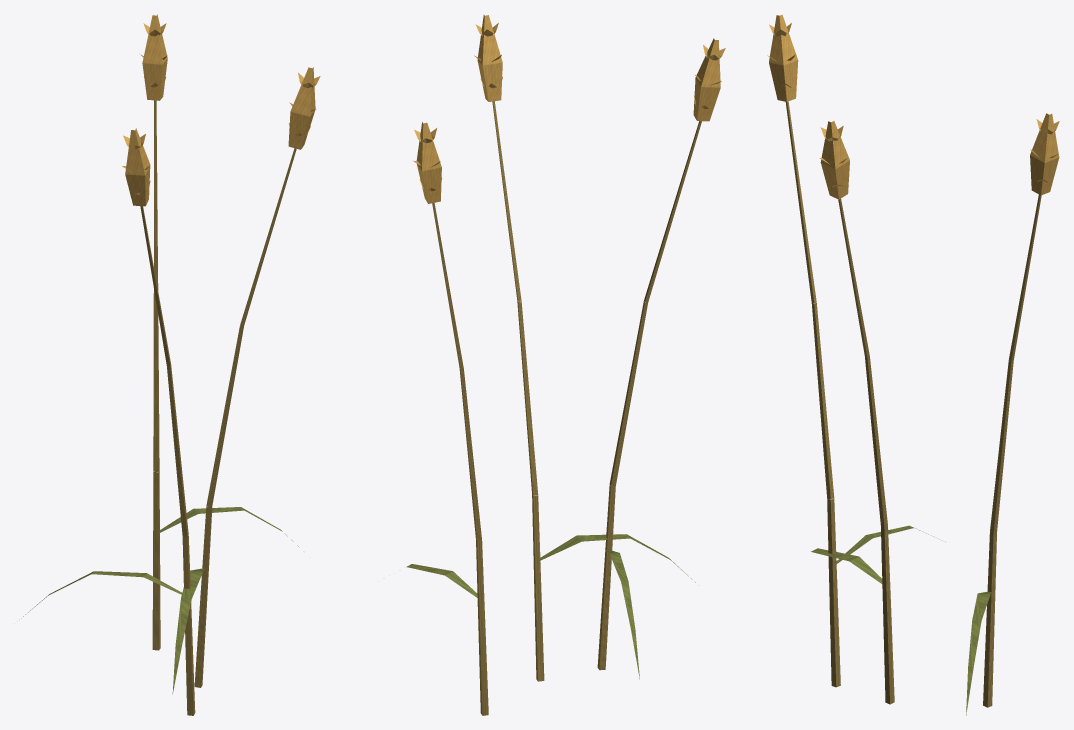
The model's file is Wheat_Cluster_B_LOD1.glb.
3 views of the same model, side by side, from view 1: azimuth 30°, elevation 25°; view 2: azimuth 150°, elevation 25°; view 3: azimuth 270°, elevation 25° (orthographic).
Parts seen in each view (by area): view 1: world; view 2: world; view 3: world.
Boxes of the visible parts, left/top/right/bottom form: world: left=21, top=14, right=320, bottom=715; world: left=406, top=15, right=725, bottom=715; world: left=767, top=14, right=1059, bottom=715.
Size of the model in its own units: 0.8089 by 1.65 by 0.7255.
Materials: 1 (1 with a texture image).
